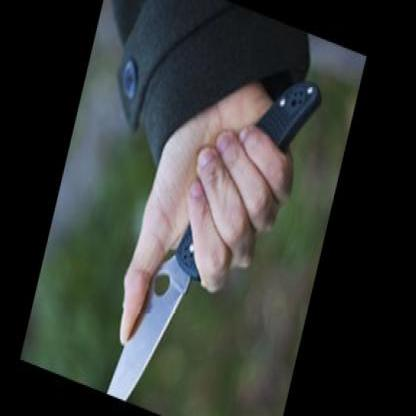knife: (98, 170, 254, 412)
